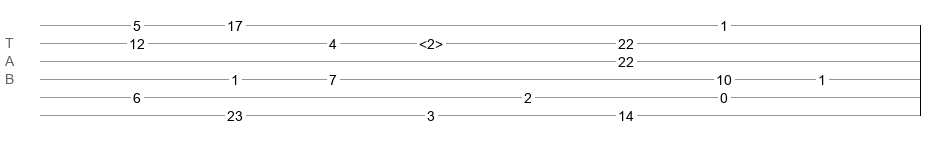0: (720, 90, 728, 100)
1: (231, 72, 239, 82), (720, 18, 728, 28), (818, 72, 826, 82)
10: (716, 72, 732, 82)
12: (129, 36, 145, 46)
14: (618, 108, 634, 118)
17: (227, 18, 243, 28)
2: (524, 90, 532, 100)
22: (618, 36, 634, 46), (618, 54, 634, 64)
23: (227, 108, 243, 118)
3: (427, 108, 435, 118)
4: (329, 36, 337, 46)
5: (133, 18, 141, 28)
6: (133, 90, 141, 100)
7: (329, 72, 337, 82)
harmonic: (419, 36, 443, 46)
